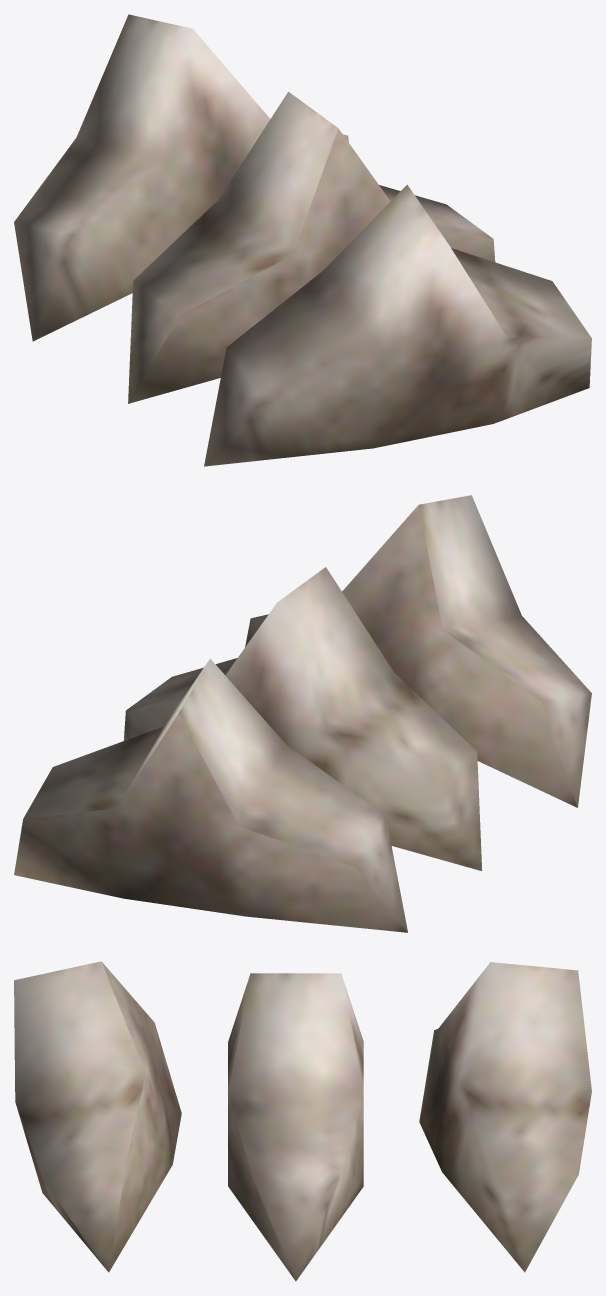
File: prop_0155_01.FBX
The picture shows the model from 3 angles, top to bottom: view 1: azimuth 30°, elevation 25°; view 2: azimuth 150°, elevation 25°; view 3: azimuth 270°, elevation 25°; orthographic projection. The views are drawn at different scales.
Visible parts, largest first — view 1: prop_0155_01; view 2: prop_0155_01; view 3: prop_0155_01.
Part boxes in pixels (box(x1,y1,x2,y2)): prop_0155_01: box(14, 14, 591, 466); prop_0155_01: box(14, 495, 591, 932); prop_0155_01: box(14, 961, 591, 1281).
Size of the model in its own units: 8.02 by 5.13 by 11.57.
